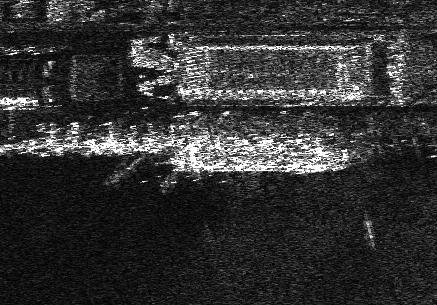ship: (166, 134, 352, 174)
